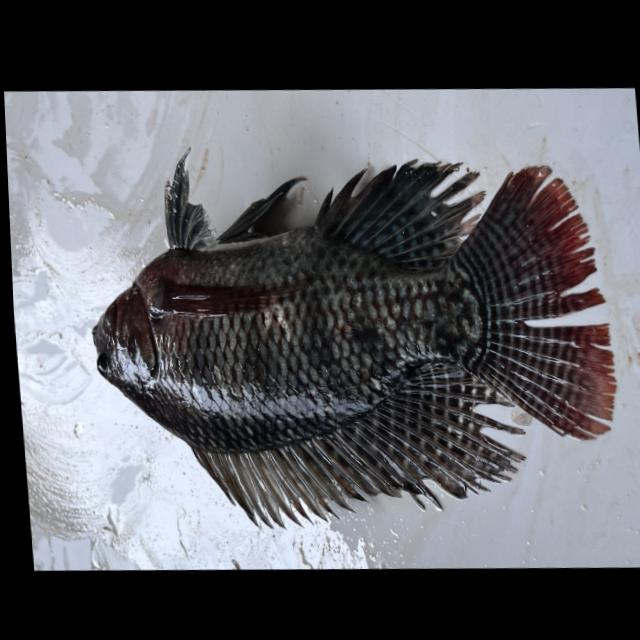Tilapia: (73, 140, 625, 543)
